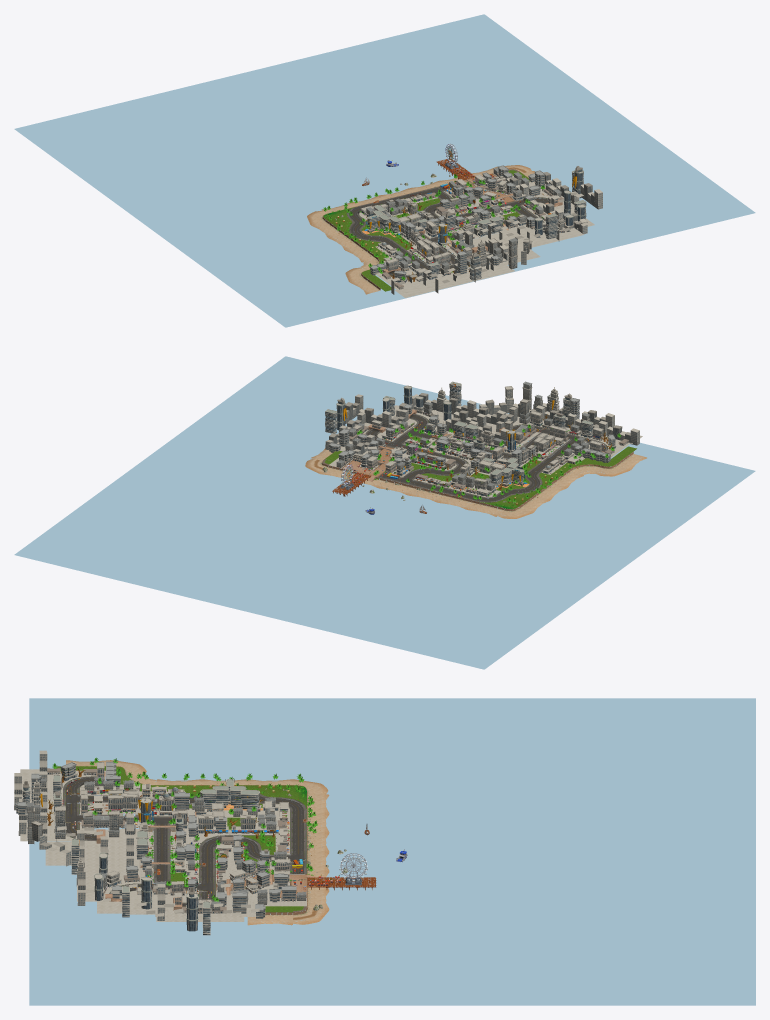
File: sun_city.glb
3 views of the same model, one above another, from view 1: azimuth 30°, elevation 25°; view 2: azimuth 150°, elevation 25°; view 3: azimuth 270°, elevation 25° (orthographic). The views are drawn at different scales.
Parts seen in each view (by area): view 1: Props_Boat_Boat_Ferry; view 2: Props_Boat_Boat_Ferry; view 3: Props_Boat_Boat_Ferry.
Boxes of the visible parts, x1,y1,x2,y2 form: Props_Boat_Boat_Ferry: [14, 14, 755, 327]; Props_Boat_Boat_Ferry: [14, 356, 755, 669]; Props_Boat_Boat_Ferry: [14, 698, 755, 1005].
Size of the model in its own units: 2048 by 177 by 2092.
98 materials, 98 textured.
